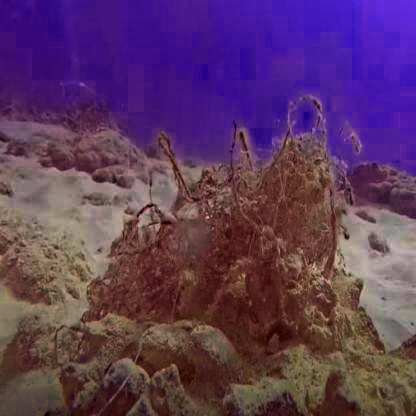net: (81, 131, 370, 326)
